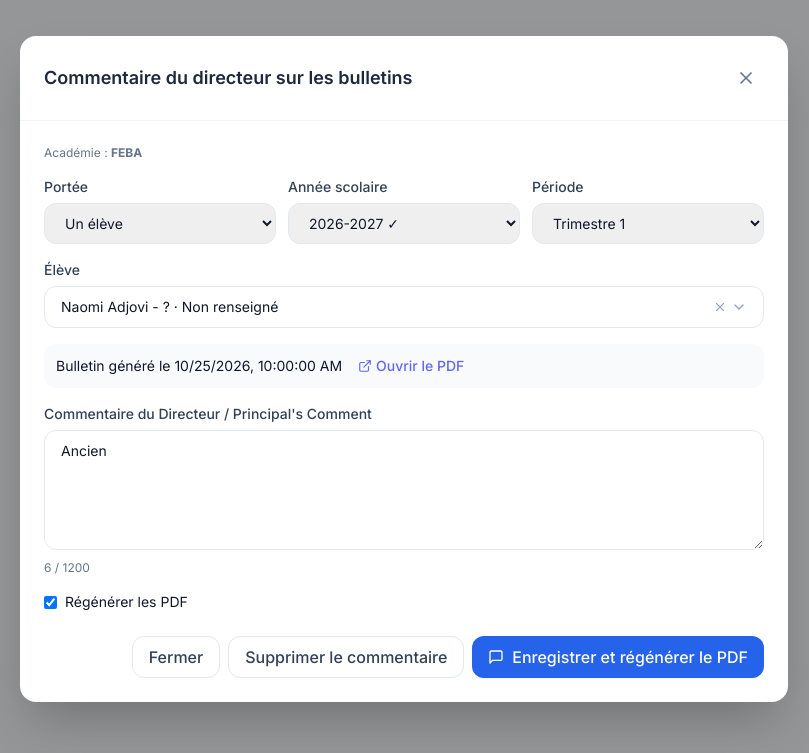
commentaire d'un élève › charge le commentaire, l'enregistre et affiche le NOUVEAU lien PDF
Step 1. Replace the text in the text box labelled "Commentaire du Directeur / Principal's Comment" with "Très bon trimestre" → [404, 490], box [44,430,764,550]
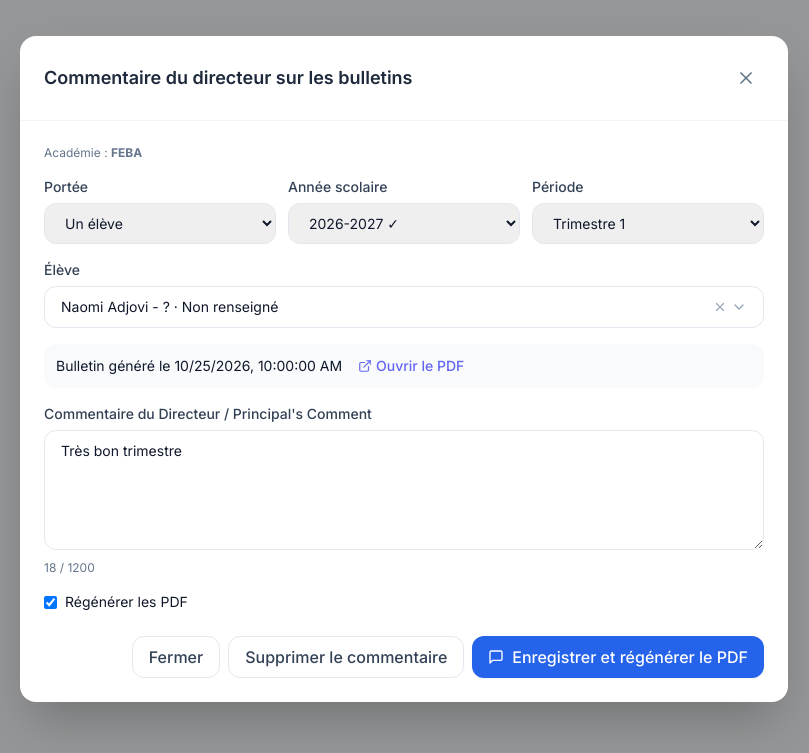
Step 2. Click the button "Enregistrer et régénérer le PDF" → [618, 657], box [472,636,764,678]
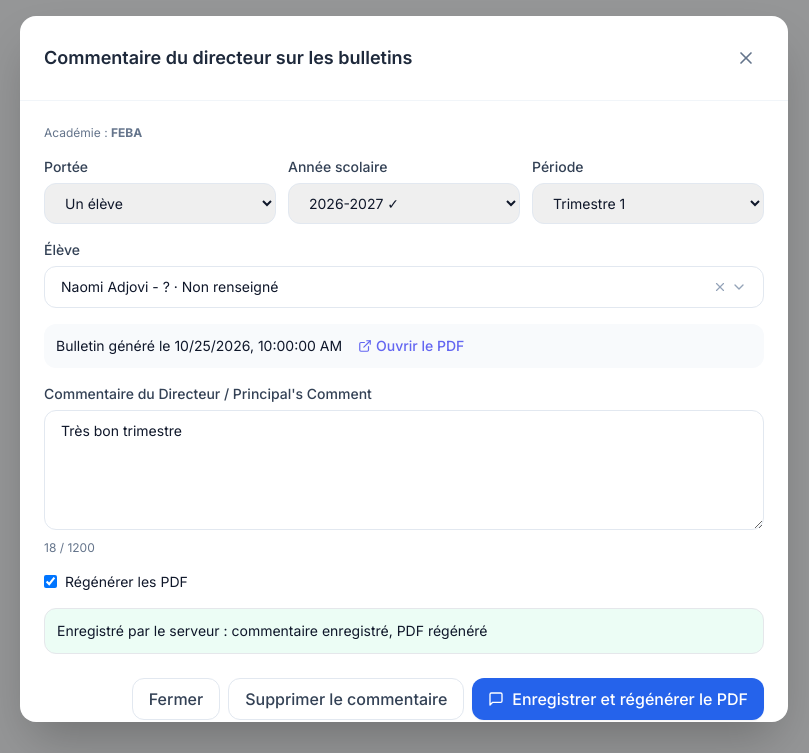
Result: the message "Enregistré par le serveur : commentaire enregistré, PDF régénéré" is shown at [44,608,764,654]
